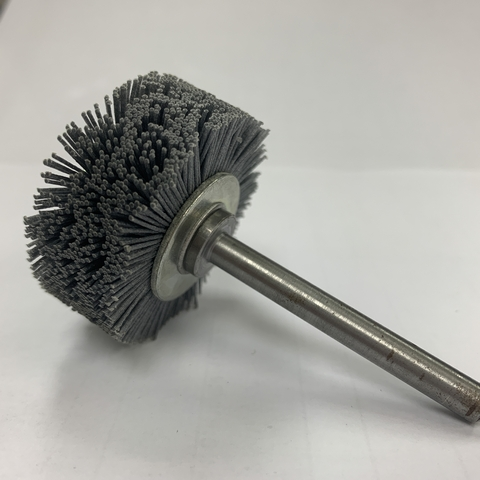Wheel Brush: (38, 53, 480, 415), (19, 63, 430, 381), (9, 66, 385, 369)
